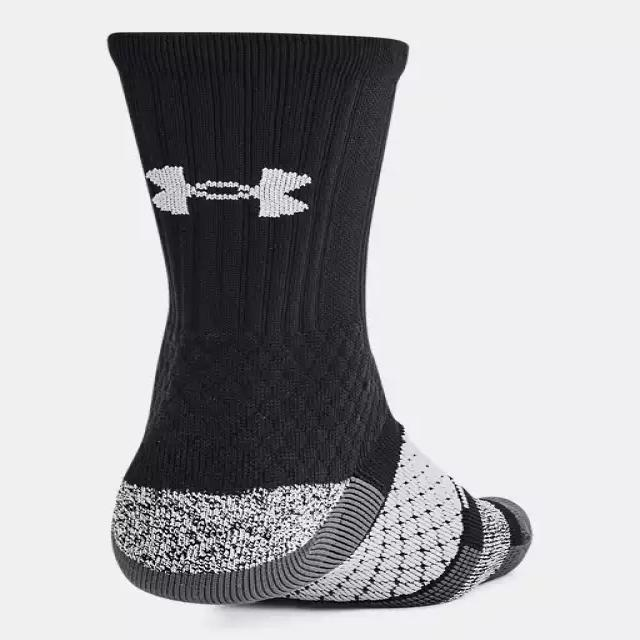sock: (106, 31, 532, 608)
